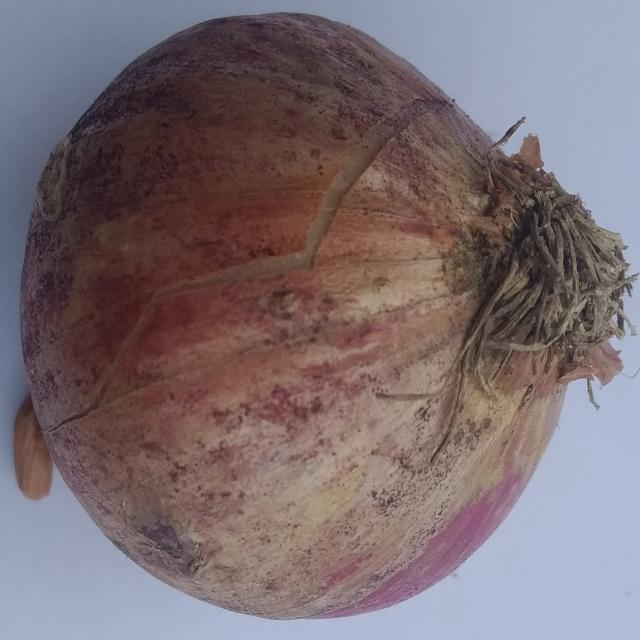onion: (12, 12, 640, 626)
